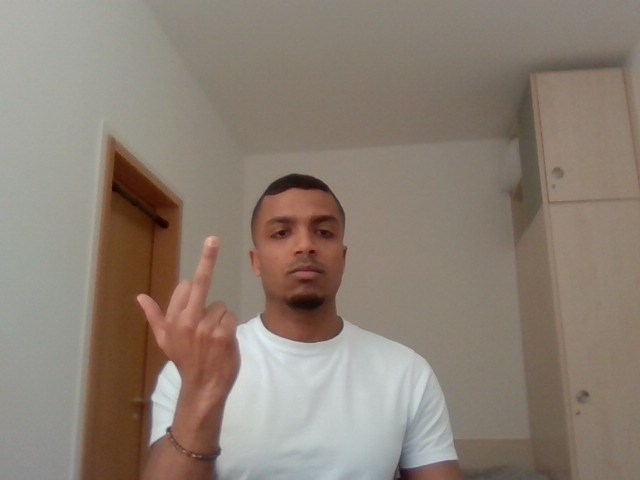fuckyou: (117, 215, 274, 423)
